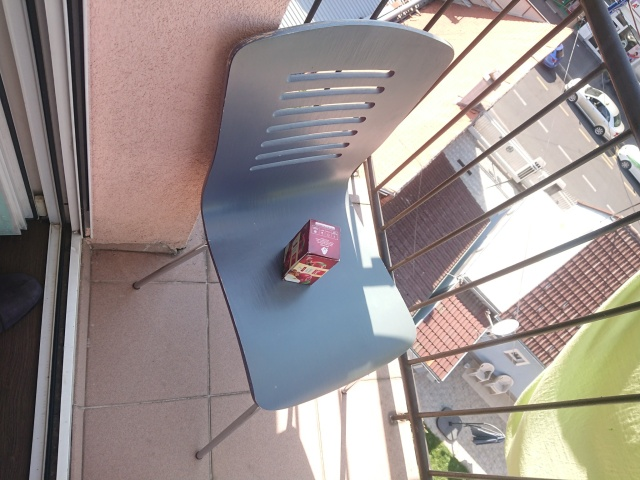Franck Apple Cinnamon Tea 60g: (279, 217, 341, 287)
